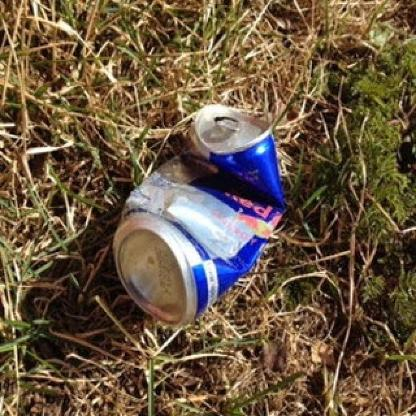Can: (80, 83, 323, 352)
